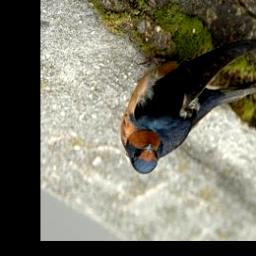Swallow: (120, 40, 256, 177)
